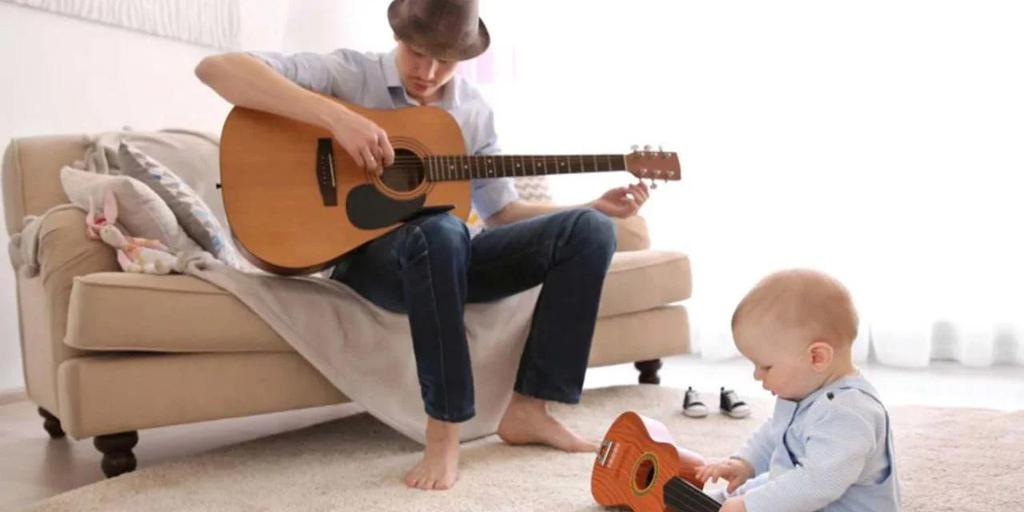child: (674, 253, 904, 512)
